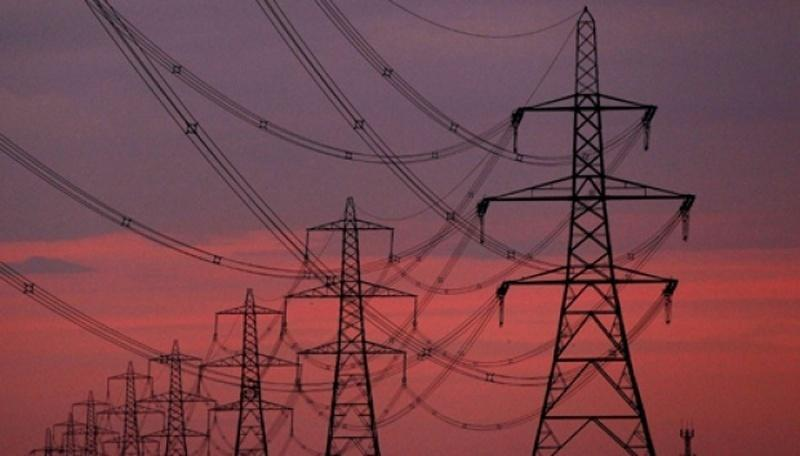power_tower: (475, 6, 698, 454), (284, 193, 420, 456), (199, 286, 303, 456), (134, 335, 223, 453), (90, 357, 168, 455), (60, 389, 125, 456), (50, 410, 91, 456), (26, 424, 66, 456)
